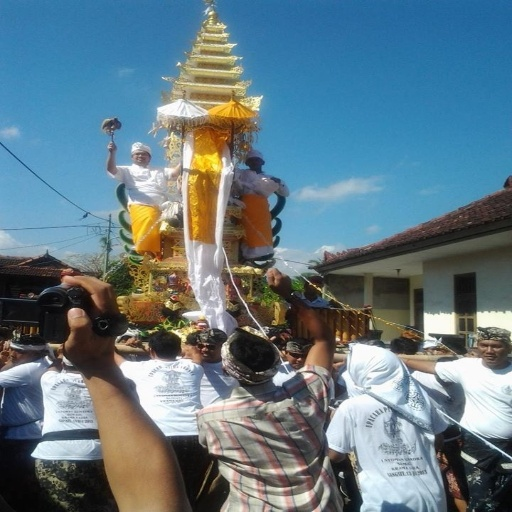hand: (34, 288, 123, 374), (264, 266, 293, 297), (122, 336, 142, 347), (105, 142, 118, 154), (266, 176, 282, 184), (57, 342, 64, 355)
